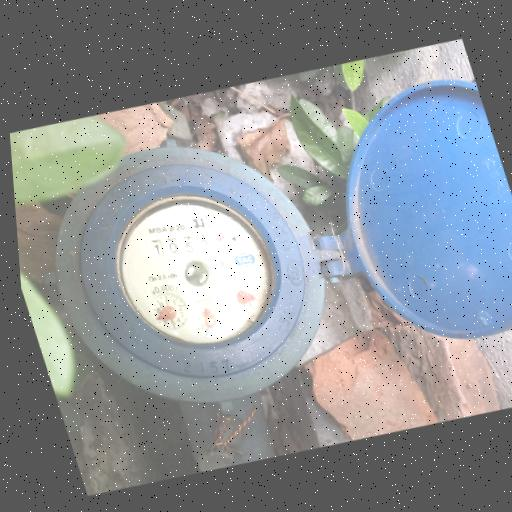0: (165, 235, 183, 258)
1: (149, 238, 166, 261)
2: (195, 230, 215, 254)
4: (211, 230, 229, 252)
5: (181, 233, 198, 256)
border_water_meter_number: (146, 221, 231, 268)
